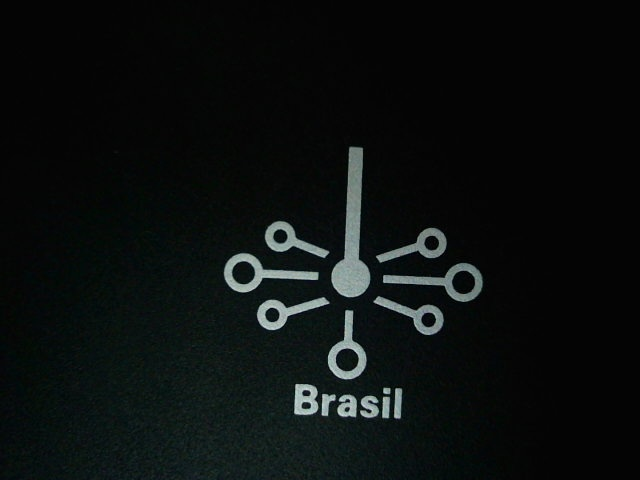BG_Brasil: (198, 127, 523, 439)
